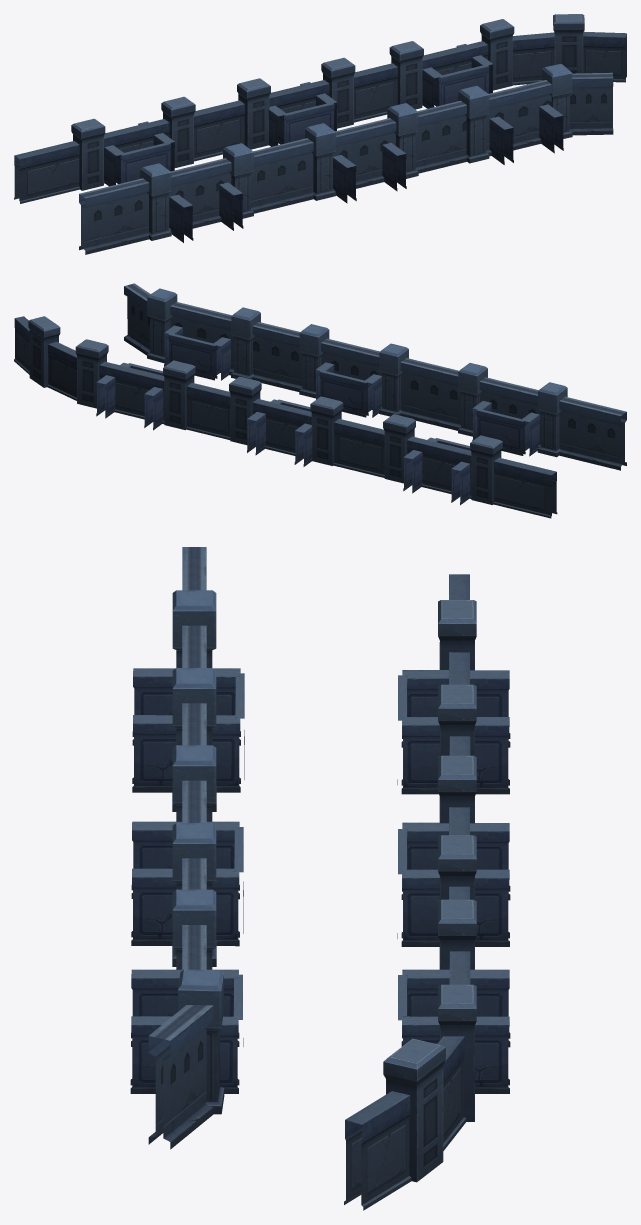
Rendered from Area_12_2.fbx.
The picture shows the model from 3 angles, top to bottom: view 1: azimuth 30°, elevation 25°; view 2: azimuth 150°, elevation 25°; view 3: azimuth 270°, elevation 25°; orthographic projection. The views are drawn at different scales.
Parts seen in each view (by area): view 1: Area_12_2; view 2: Area_12_2; view 3: Area_12_2.
Boxes of the visible parts, bbox=[...] form: Area_12_2: bbox=[14, 14, 626, 254]; Area_12_2: bbox=[14, 283, 626, 518]; Area_12_2: bbox=[130, 547, 510, 1210].
Size of the model in its own units: 6497 by 701 by 1881.
